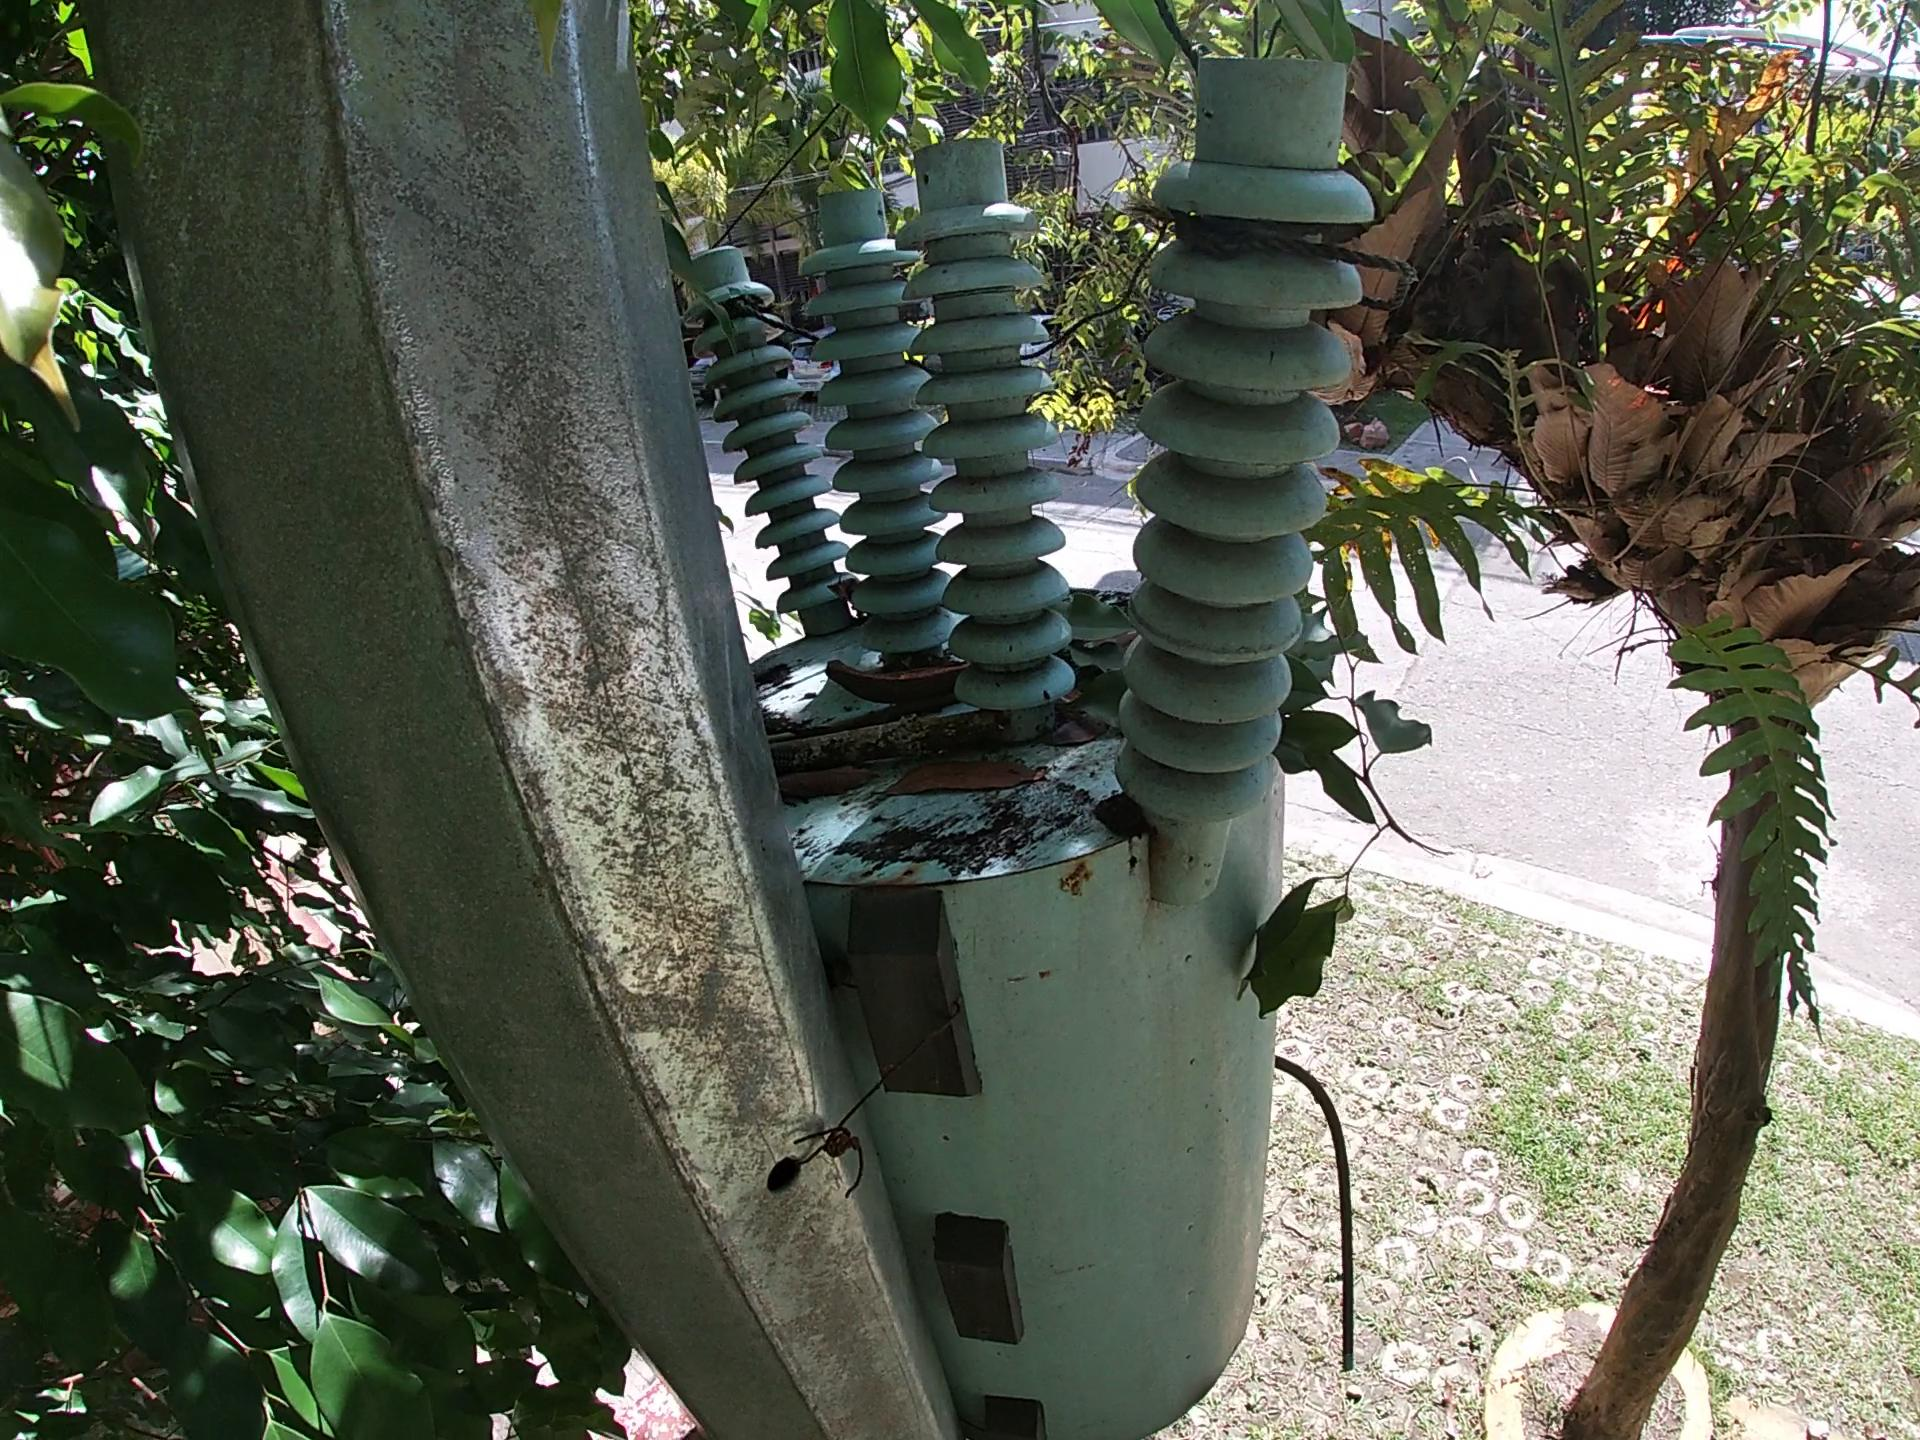branch with leaves: (1240, 579, 1453, 1050)
leaf: (1061, 570, 1147, 722), (881, 759, 1037, 806), (773, 771, 865, 806)
mahogany fruit: (824, 647, 962, 705)
tree branch: (766, 722, 999, 755)
